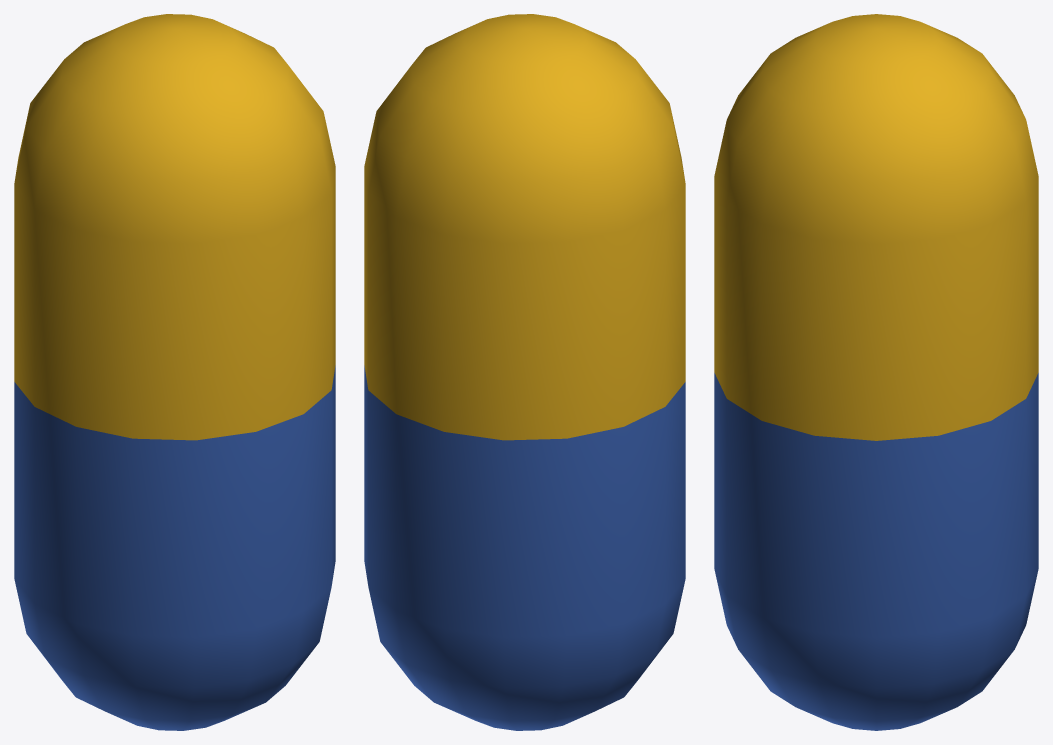
Rendered from Pill.fbx.
3 views of the same model, side by side, from view 1: azimuth 30°, elevation 25°; view 2: azimuth 150°, elevation 25°; view 3: azimuth 270°, elevation 25° (orthographic).
Parts seen in each view (by area): view 1: Cylinder; view 2: Cylinder; view 3: Cylinder.
Boxes of the visible parts, box(x1,y1,x2,y2) form: Cylinder: box(14, 14, 335, 730); Cylinder: box(364, 14, 685, 730); Cylinder: box(714, 14, 1038, 730).
Bounding box in the file's own units: 0.5984 × 1.4 × 0.5984.
